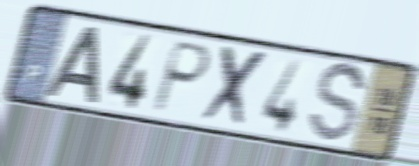4: (104, 31, 154, 113), (259, 55, 306, 137)
A: (42, 23, 100, 106)
P: (148, 38, 215, 116)
S: (306, 60, 368, 147)
X: (197, 43, 272, 132)
